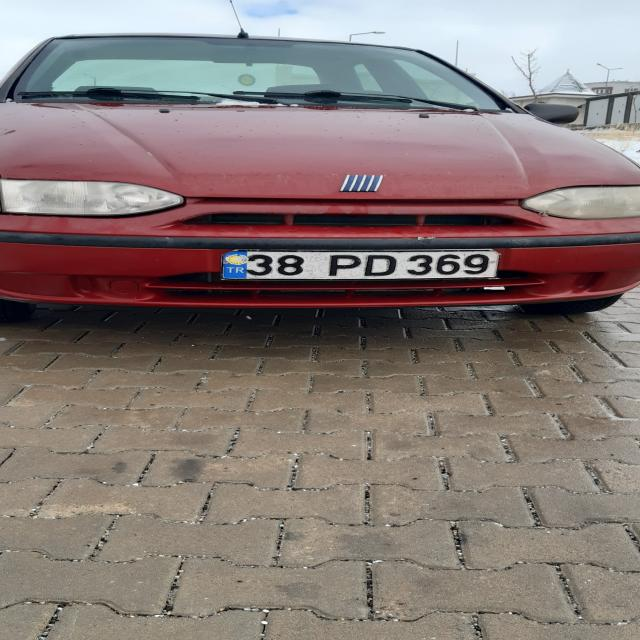plate: (218, 249, 499, 279)
